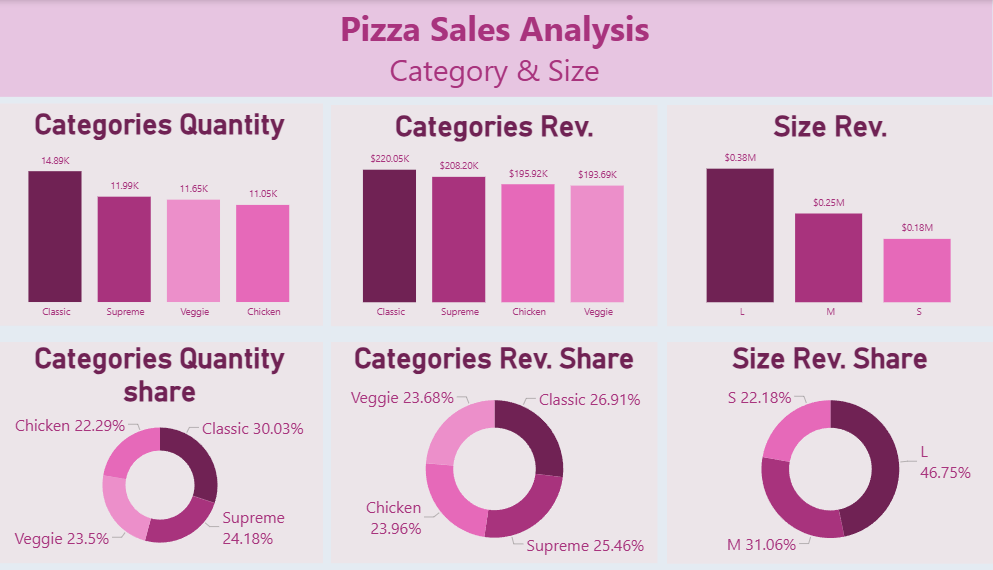

The dashboard page shown, as its layout file describes it:
{"tool":"powerbi","page":{"name":"Category","canvas":[1280,720],"ordinal":1},"visuals":[{"type":"donutChart","title":"Categories Quantity share","fields":{"Category":["catcount.Category"],"Y":["Sum(catcount.Total_quantity)"]},"box":[13,430.7,411.3,278.5],"z":0},{"type":"donutChart","title":"Categories Rev. Share","fields":{"Category":["Revenuepercat.Category"],"Y":["Sum(Revenuepercat.Total_revenue)"]},"box":[434,430.7,411.3,278.5],"z":1000},{"type":"clusteredColumnChart","title":"Categories Quantity","fields":{"Category":["catcount.Category"],"Y":["Sum(catcount.Total_quantity)"]},"box":[13,131.2,411.3,280.1],"z":2000},{"type":"clusteredColumnChart","title":"Categories Rev. ","fields":{"Category":["Revenuepercat.Category"],"Y":["Sum(Revenuepercat.Total_revenue)"]},"box":[434,132.8,411.3,278.5],"z":3000},{"type":"clusteredColumnChart","title":"Size Rev.","fields":{"Category":["Revenuepersiza.Size"],"Y":["Sum(Revenuepersiza.Total_revenue)"]},"box":[858.2,132.8,411.3,278.5],"z":4000},{"type":"donutChart","title":"Size Rev. Share","fields":{"Category":["Revenuepersiza.Size"],"Y":["Sum(Revenuepersiza.Total_revenue)"]},"box":[858,431,411,279],"z":5000},{"type":"textbox","box":[13.2,0,1254.8,122],"z":6000}]}

Visuals, with their boxes in screenshot pixels (x1, y1, x2, y2), scaled from the page's 1280x720 canvas onto the 993x570 screenshot:
"Categories Quantity share" donutChart: box=[10, 341, 329, 561]
"Categories Rev. Share" donutChart: box=[337, 341, 656, 561]
"Categories Quantity" clusteredColumnChart: box=[10, 104, 329, 326]
"Categories Rev. " clusteredColumnChart: box=[337, 105, 656, 326]
"Size Rev." clusteredColumnChart: box=[666, 105, 985, 326]
"Size Rev. Share" donutChart: box=[666, 341, 984, 562]
textbox: box=[10, 0, 984, 97]
